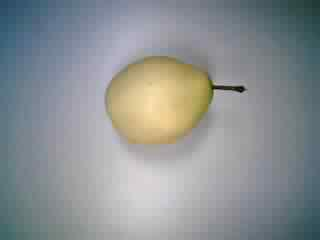pear: (92, 45, 252, 149)
